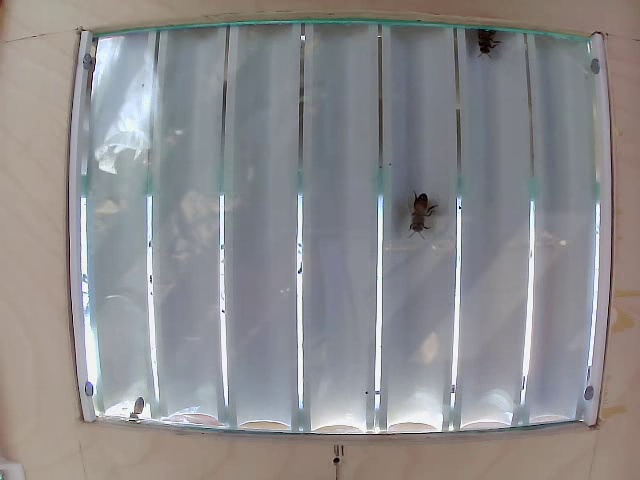bee: (468, 11, 518, 73), (116, 392, 167, 431), (402, 185, 434, 246)
